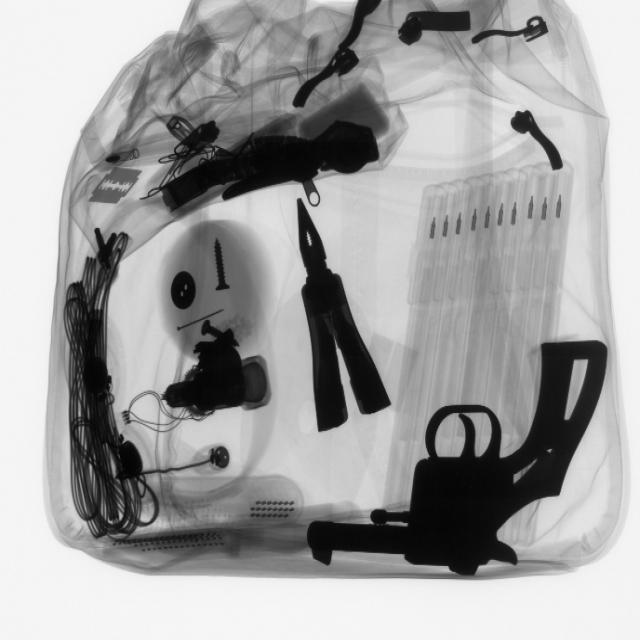BLADE: (89, 162, 142, 211)
GUN: (302, 336, 611, 572)
SCREW: (195, 230, 242, 304)
